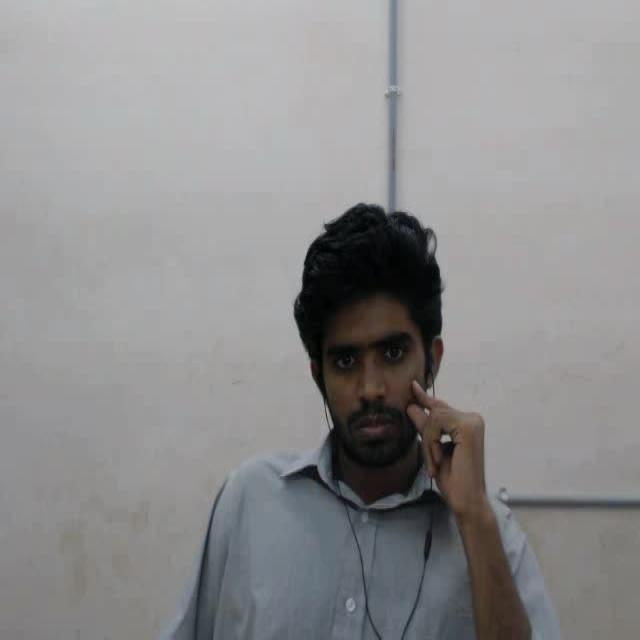Bored: (284, 187, 488, 518)
